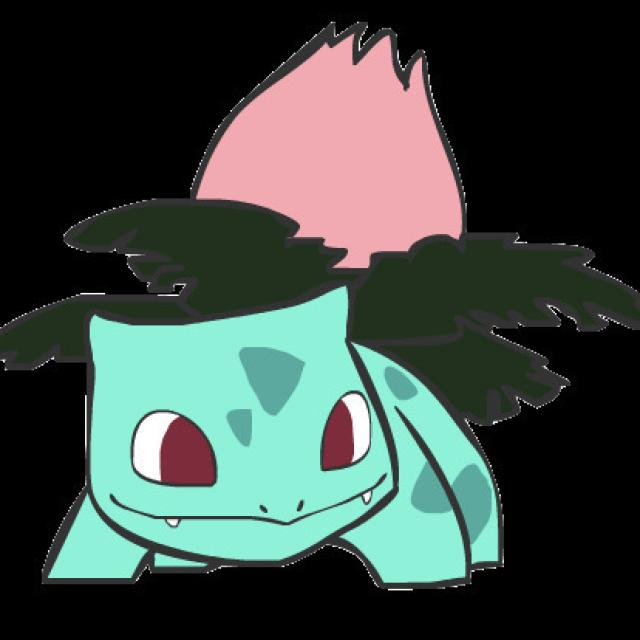Ivysaur: (69, 36, 500, 581)
